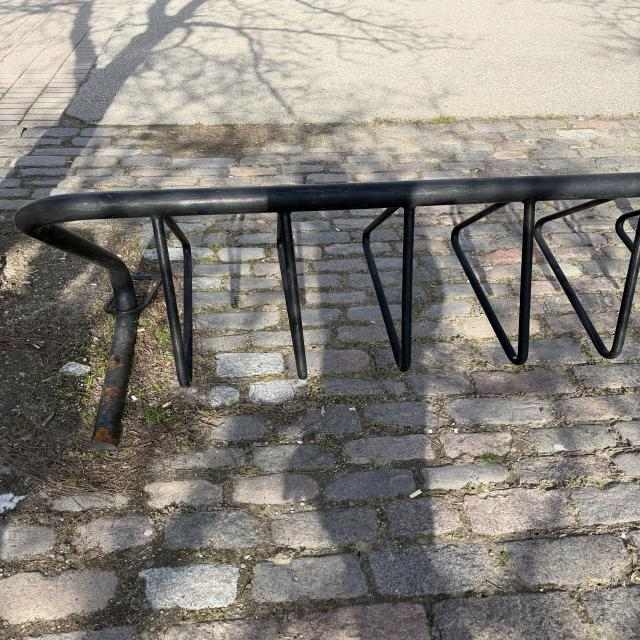Bicycle Rack: (15, 172, 640, 450)
